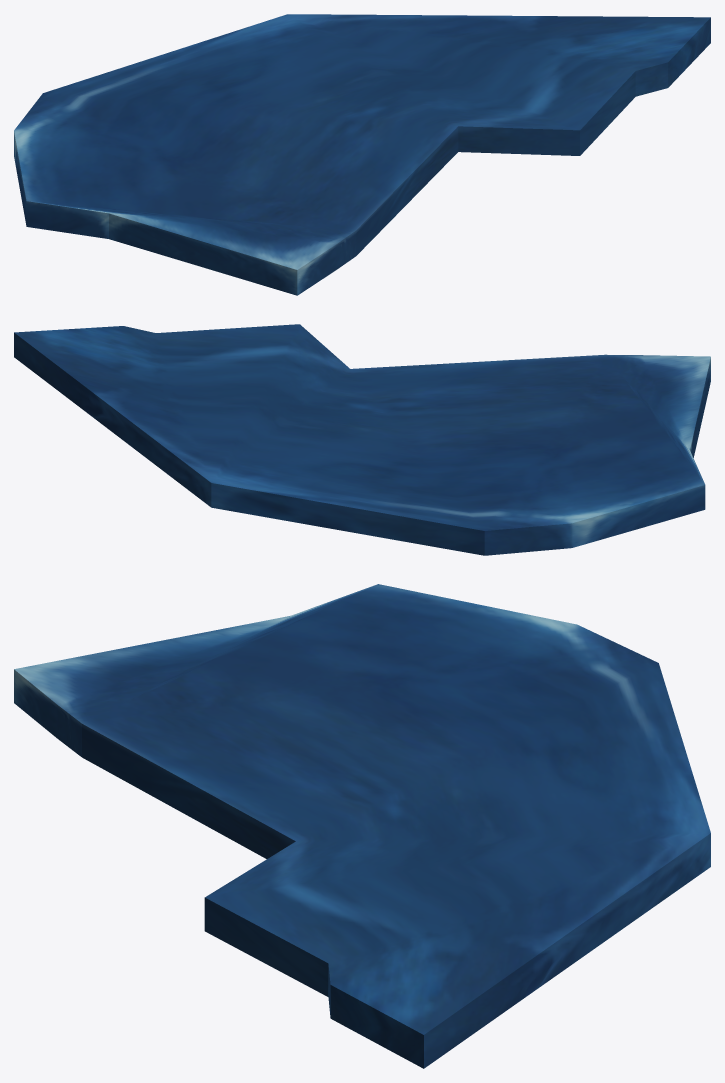
Rendered from FuBing04.FBX.
The picture shows the model from 3 angles, top to bottom: view 1: azimuth 30°, elevation 25°; view 2: azimuth 150°, elevation 25°; view 3: azimuth 270°, elevation 25°; orthographic projection. The views are drawn at different scales.
Visible parts, largest first — view 1: FuBing04; view 2: FuBing04; view 3: FuBing04.
Part boxes in pixels (x1,y1,x2,y2): FuBing04: (14, 14, 710, 295); FuBing04: (14, 324, 710, 555); FuBing04: (14, 584, 710, 1068).
Bounding box in the file's own units: 734 × 25.73 × 479.
